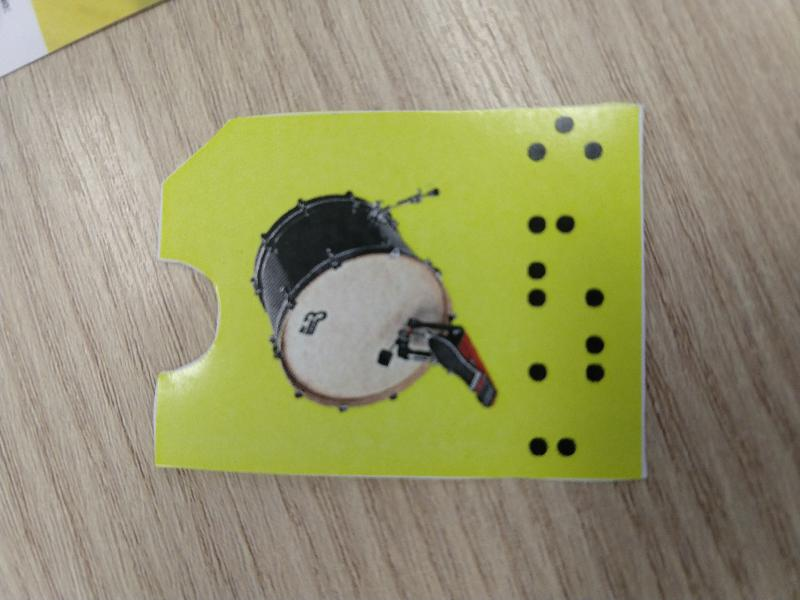bumbo: (154, 93, 652, 481)
